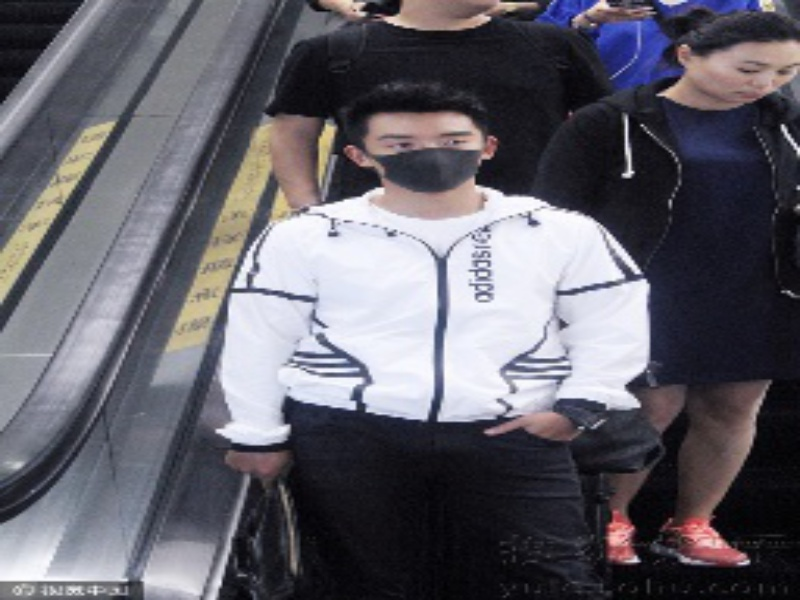ManaoArotava: (343, 79, 512, 217)
TsisyArotava: (671, 1, 800, 116)
